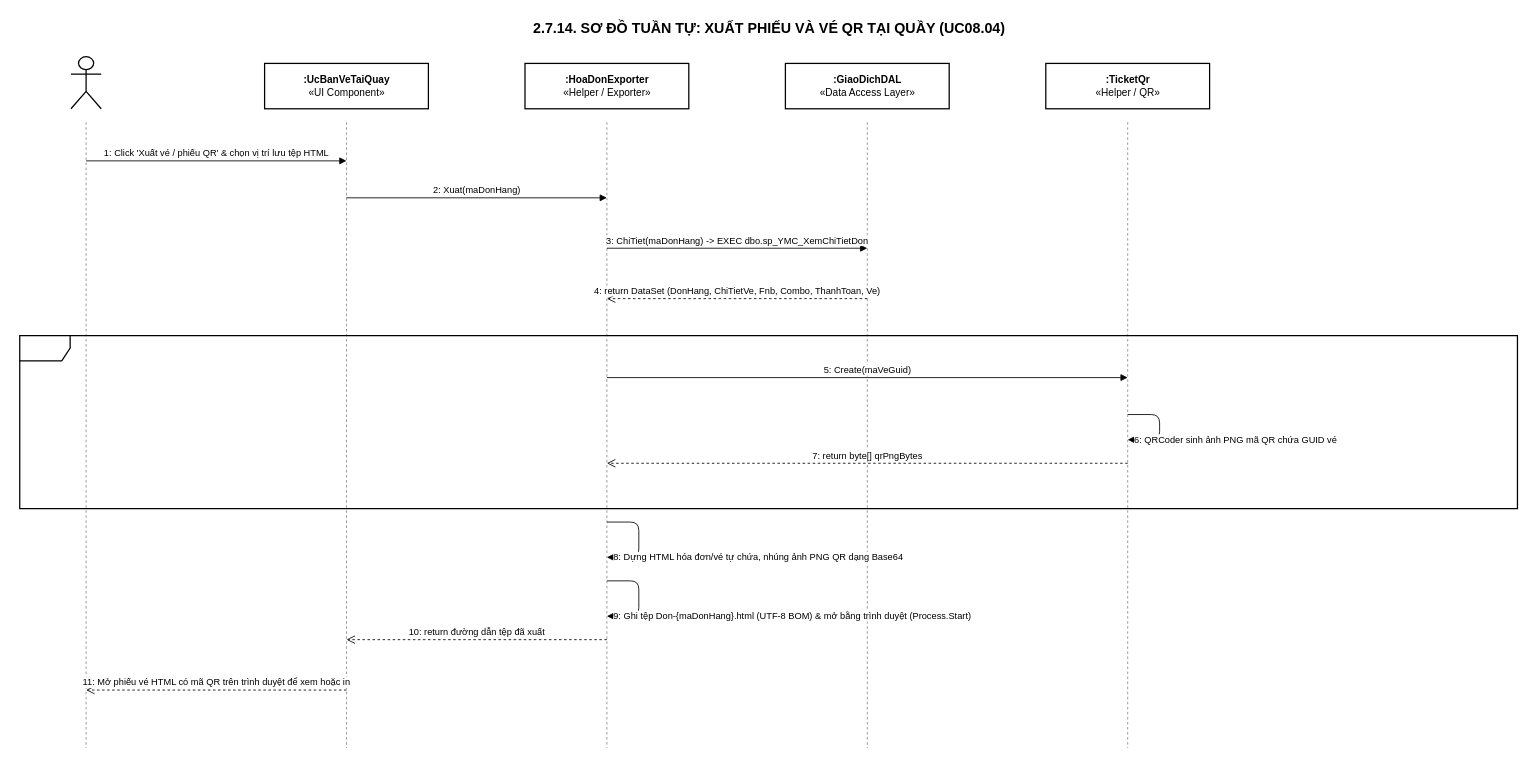
This 1536x763 diagram has some shape labels left out. Here are the shapes that lost their labels. From the top down, the centre of each, then its label:
At point (85, 82): ":NhanVienBanVe (Thu ngân)".
At point (768, 422): "loop [Với từng vé đã phát hành trong bảng Ve]".
